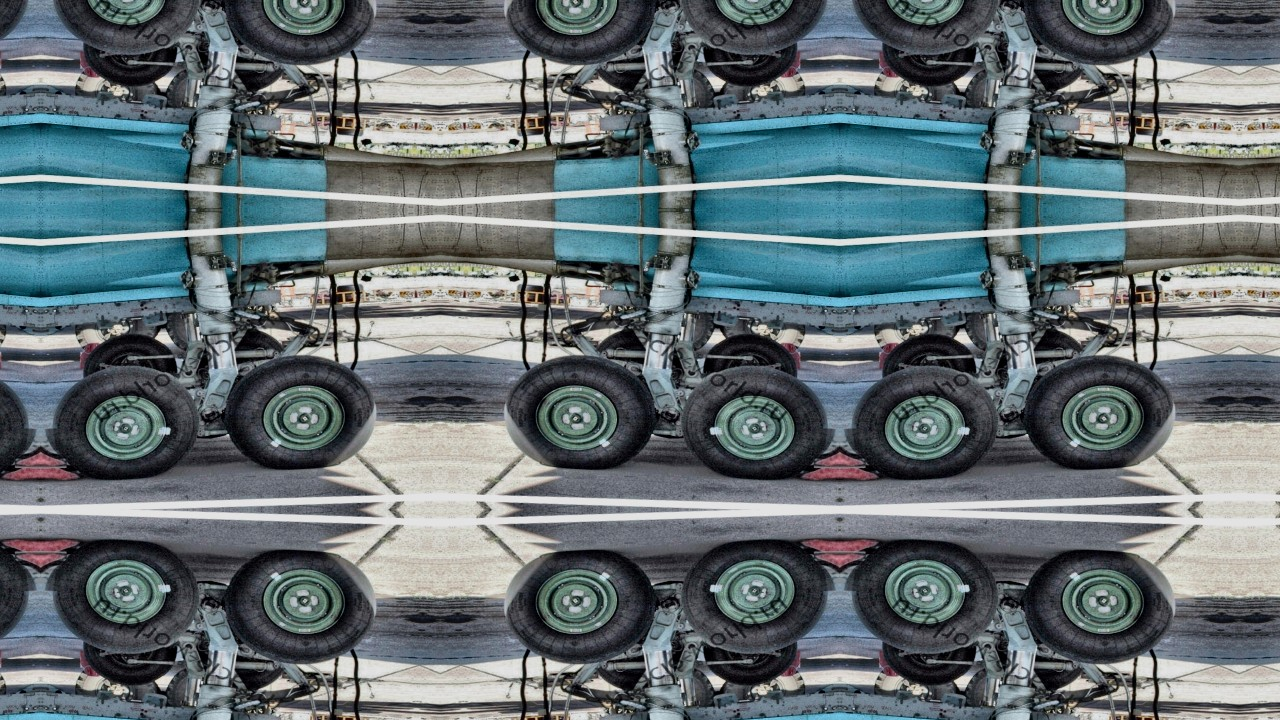chock: (40, 430, 83, 489), (797, 430, 840, 489), (840, 430, 883, 489), (40, 531, 83, 590), (797, 531, 840, 590), (840, 531, 883, 590), (0, 430, 40, 489), (0, 531, 40, 590), (12, 426, 40, 473), (40, 426, 68, 473), (812, 426, 840, 473), (840, 426, 868, 473), (12, 547, 40, 594), (40, 547, 68, 594), (812, 547, 840, 594), (840, 547, 868, 594)
wheel: (218, 348, 381, 477), (499, 348, 662, 477), (1018, 348, 1181, 477), (218, 543, 381, 672), (499, 543, 662, 672), (1018, 543, 1181, 672), (44, 359, 202, 488), (678, 359, 836, 488), (844, 359, 1002, 488), (44, 532, 202, 661), (678, 532, 836, 661), (844, 532, 1002, 661), (218, 0, 381, 72), (499, 0, 662, 72), (1018, 0, 1181, 72), (44, 0, 202, 61), (678, 0, 836, 61), (844, 0, 1002, 61), (79, 39, 178, 89), (702, 39, 801, 89), (879, 39, 978, 89), (79, 331, 178, 381), (702, 331, 801, 381), (879, 331, 978, 381), (79, 639, 178, 689), (702, 639, 801, 689), (879, 639, 978, 689), (0, 359, 36, 488), (0, 532, 36, 661), (230, 55, 288, 94), (592, 55, 650, 94), (1030, 55, 1088, 94), (230, 326, 288, 365), (592, 326, 650, 365), (1030, 326, 1088, 365), (230, 655, 288, 694), (592, 655, 650, 694), (1030, 655, 1088, 694), (0, 0, 36, 61)
